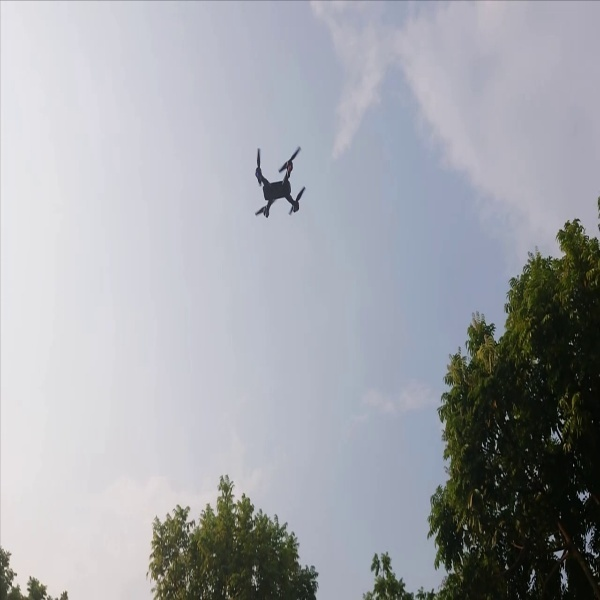drone: (244, 142, 312, 221)
